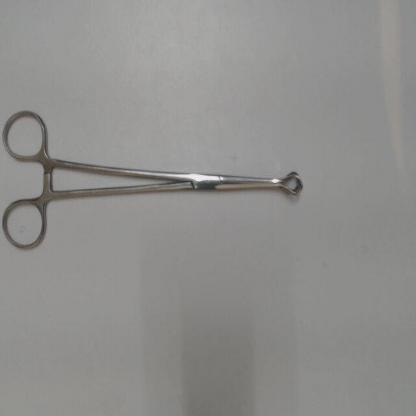8 Babcock Tissue Forceps: (1, 101, 315, 255)
